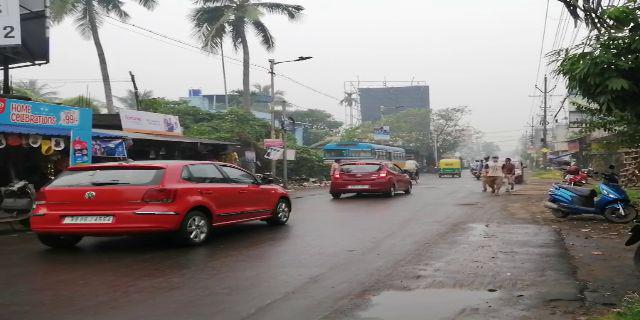Autorickshaw: (437, 156, 461, 175)
Car: (31, 154, 292, 249), (329, 159, 415, 198)
Motorbike: (545, 180, 635, 227)
